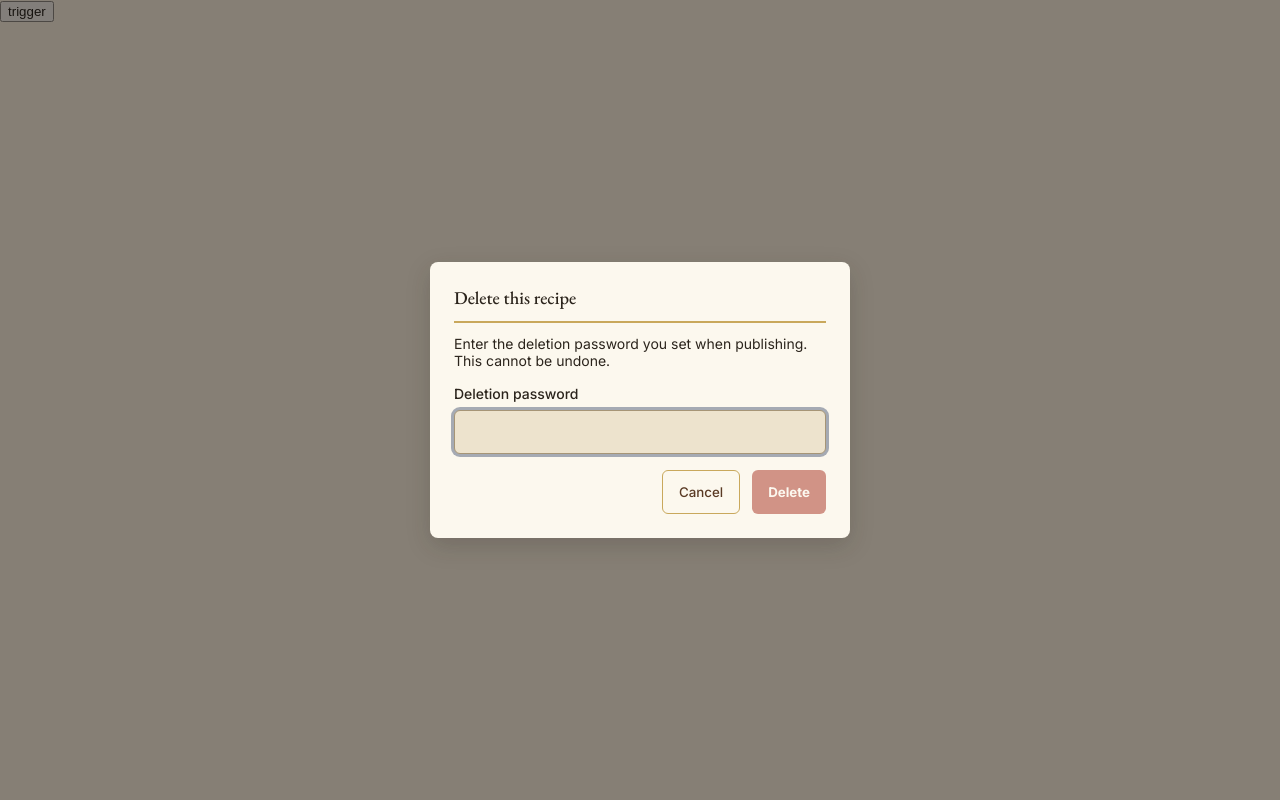
Test: DeleteRecipeDialog › 開→PW入力→成功→done表示（5分注記実在）
This screenshot has width=1280, height=800.
In the password field labelled "Deletion password": (640, 432) [454,410,826,454], type "correct-horse"
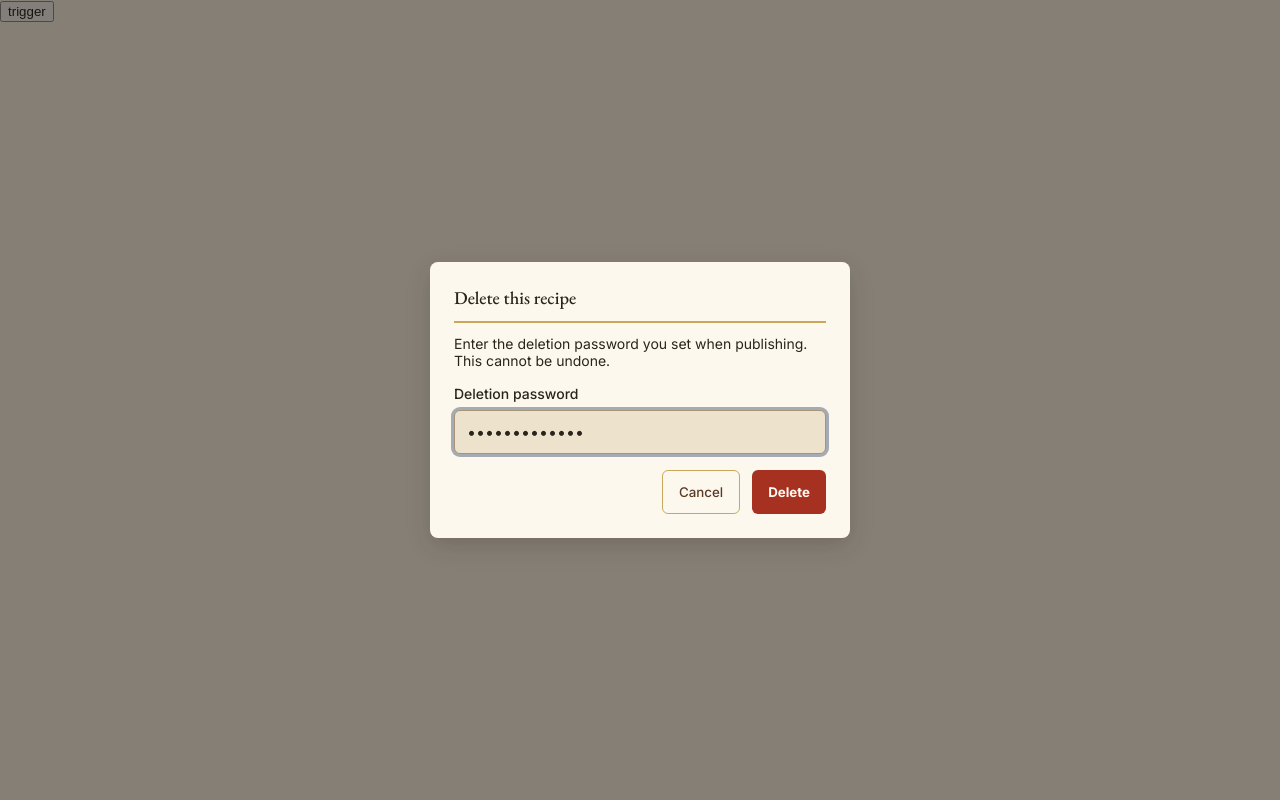
Click the button "Delete": (789, 492) [752,470,826,514]
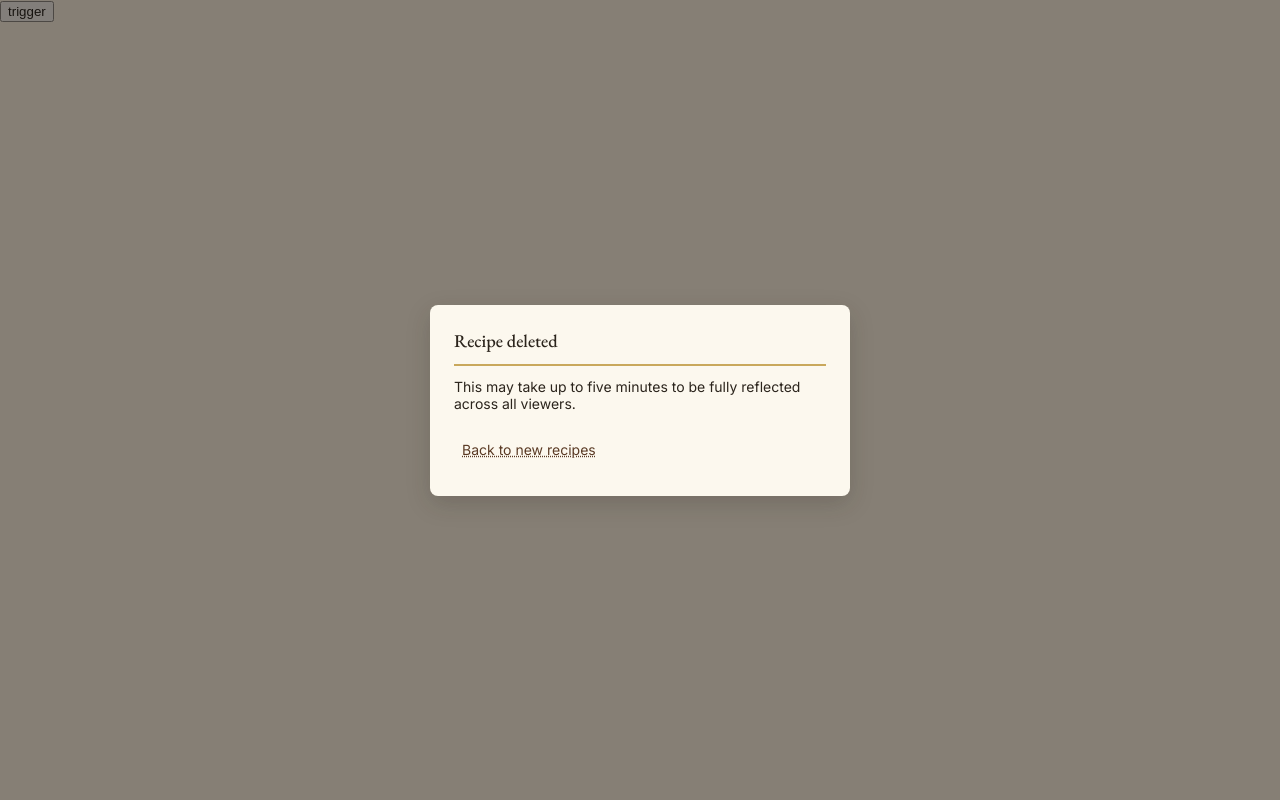
Check: the heading "Recipe deleted" is shown, box [454,328,826,366]
Check: the text "This may take up to five minutes to be fully reflected across all viewers." is shown, box [454,378,826,412]
